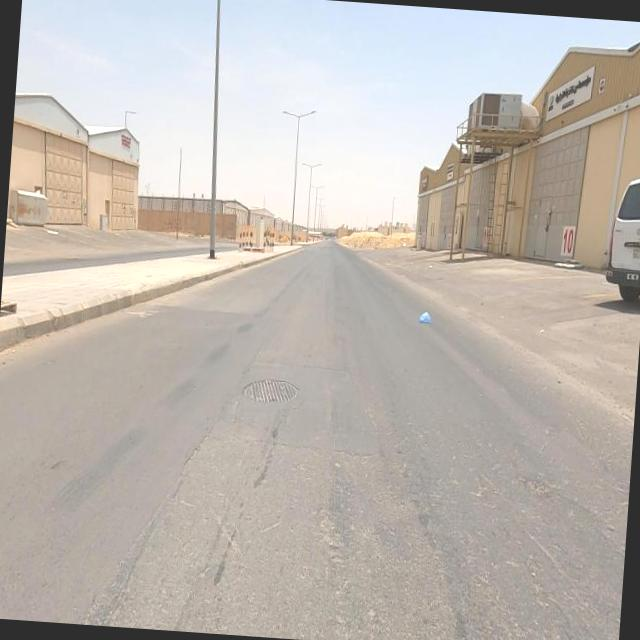debris: (381, 265, 460, 357), (27, 206, 70, 254)
